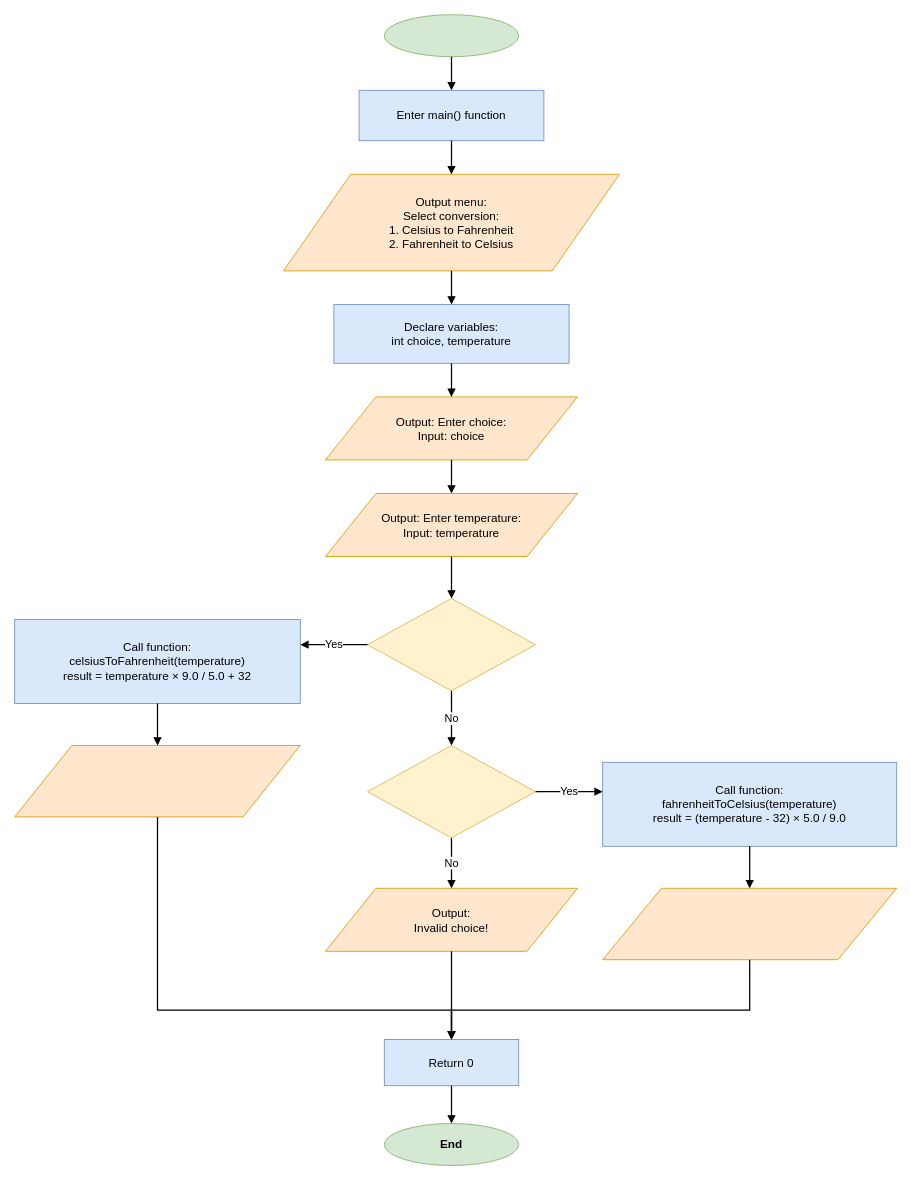
This 911x1180 diagram has some shape labels left out. The box of each missing label's shape, as (x1, y1, x2, y2) in pixels:
choice == 1 ?: (367, 598, 536, 691)
choice == 2 ?: (367, 745, 536, 838)
Output with fixed precision: Temperature in Celsius: result: (602, 887, 897, 960)
Output with fixed precision: Temperature in Fahrenheit: result: (14, 745, 300, 817)
Start: (383, 14, 519, 57)
